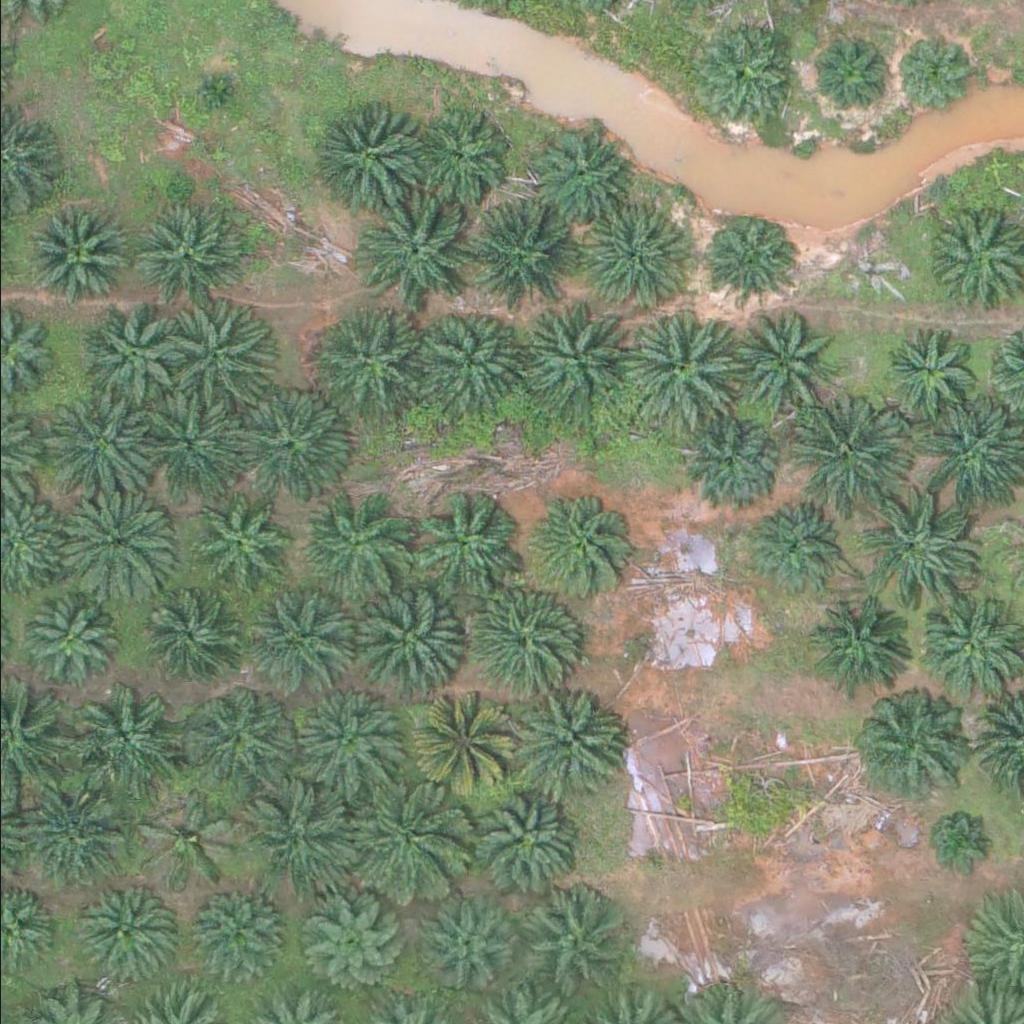Kelapa_Sawit: (60, 484, 174, 597), (44, 393, 158, 506), (417, 310, 531, 423), (789, 398, 903, 511), (512, 301, 626, 414), (576, 199, 690, 312), (20, 774, 133, 887), (240, 778, 353, 891), (352, 782, 465, 895), (345, 585, 458, 698), (403, 487, 516, 600), (306, 98, 419, 211), (464, 781, 577, 894), (297, 490, 411, 602), (525, 488, 639, 600), (468, 198, 582, 310), (72, 682, 185, 794), (223, 391, 336, 503), (315, 302, 428, 414), (167, 302, 280, 414), (358, 190, 471, 302), (513, 881, 626, 993), (507, 684, 620, 796), (463, 574, 576, 686), (849, 687, 962, 799), (860, 491, 973, 603), (736, 312, 849, 424), (622, 316, 735, 428), (187, 885, 288, 985), (71, 882, 172, 982), (298, 683, 399, 783), (186, 685, 287, 785), (241, 591, 342, 691), (186, 492, 287, 592), (81, 304, 182, 404), (408, 105, 509, 205), (681, 408, 782, 508), (885, 322, 986, 422), (696, 24, 797, 124), (528, 124, 629, 224), (293, 888, 393, 988), (137, 794, 237, 894), (405, 689, 505, 789), (128, 583, 228, 683), (139, 394, 239, 494), (131, 205, 231, 305), (22, 206, 122, 306), (809, 594, 909, 694), (736, 497, 836, 597), (19, 596, 108, 684), (415, 901, 503, 988), (708, 212, 796, 299), (806, 31, 894, 118), (891, 34, 967, 109), (924, 805, 999, 880), (193, 63, 244, 113)
